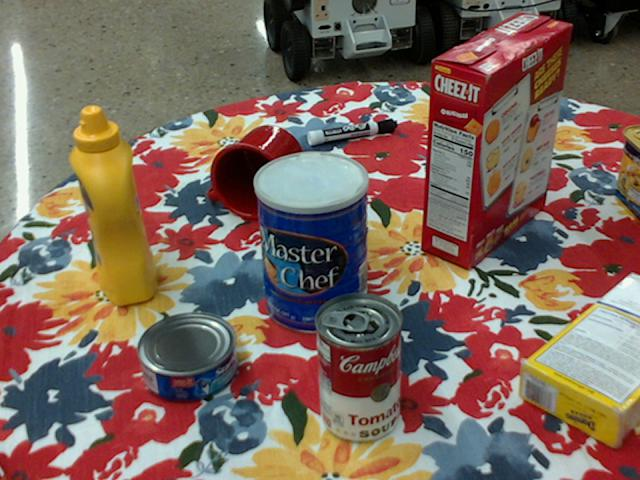cracker_box: (425, 14, 572, 269)
gelatin_box: (469, 116, 531, 166)
large_marker: (306, 117, 396, 144)
master_chef_can: (252, 151, 367, 334)
mug: (207, 125, 302, 221)
mustard_bottle: (69, 107, 158, 306)
potted_meat_can: (615, 124, 639, 221)
sugar_box: (519, 272, 639, 446)
tomato_soup_can: (314, 292, 401, 442)
tuna_fish_can: (134, 311, 235, 400)
